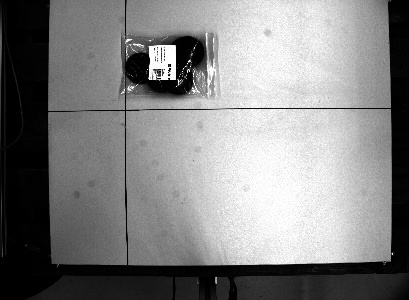t1: (118, 31, 218, 100)
